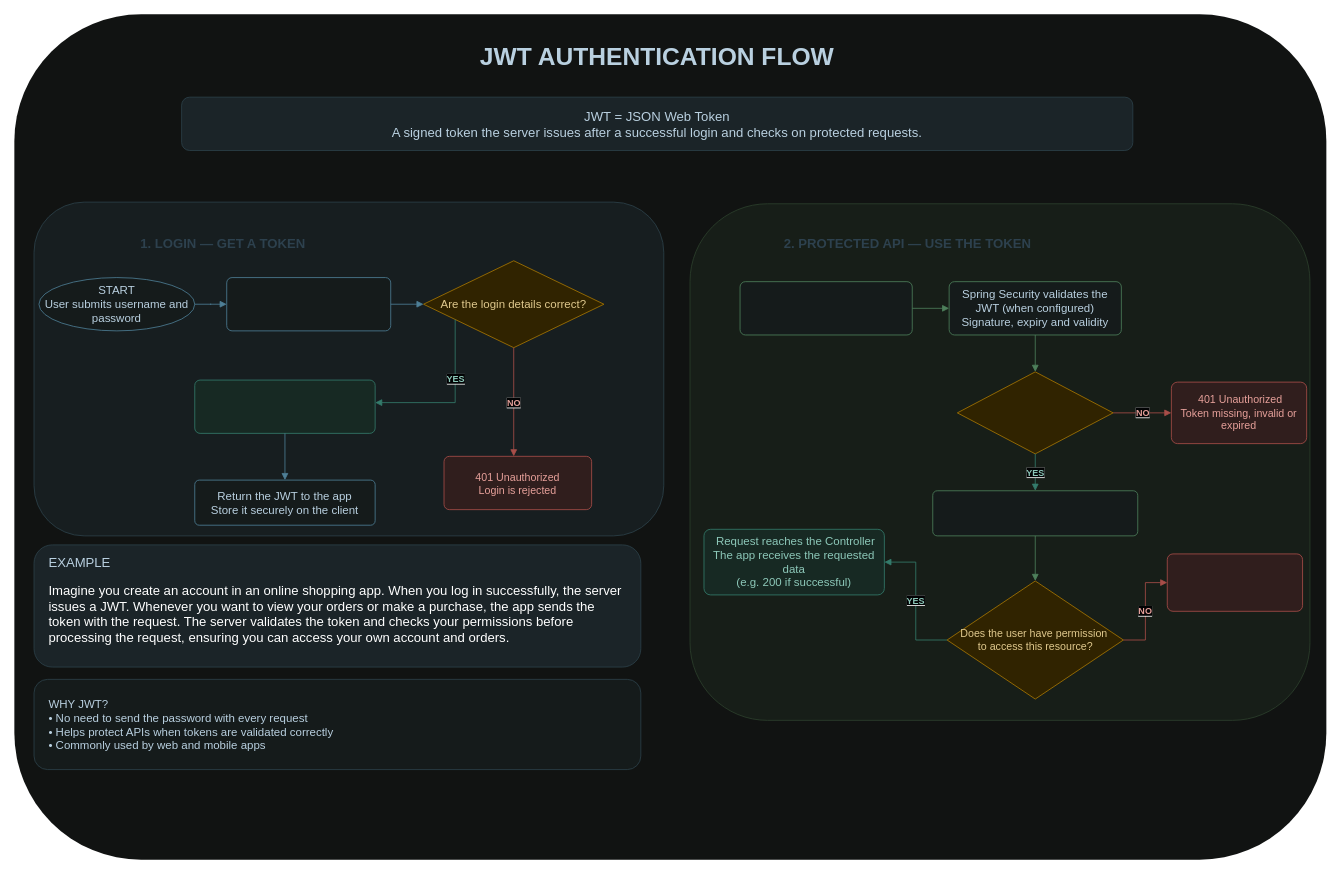
Some shapes in this 1340 by 873 pixel diagram are drawn without their labels. The box of each missing label's shape, as (x1, y1, x2, y2) in pixels:
403 Forbidden Authenticated, but access denied: (1166, 553, 1303, 611)
App requests protected data Authorization: Bearer <token>: (739, 281, 912, 335)
Create and sign a JWT Include required claims and expiry: (194, 379, 375, 433)
Is the token valid and unexpired?: (957, 371, 1113, 454)
Server finds the user and verifies the password: (226, 277, 391, 331)
Spring Security sets the authenticated user in the SecurityContext: (932, 490, 1138, 536)
